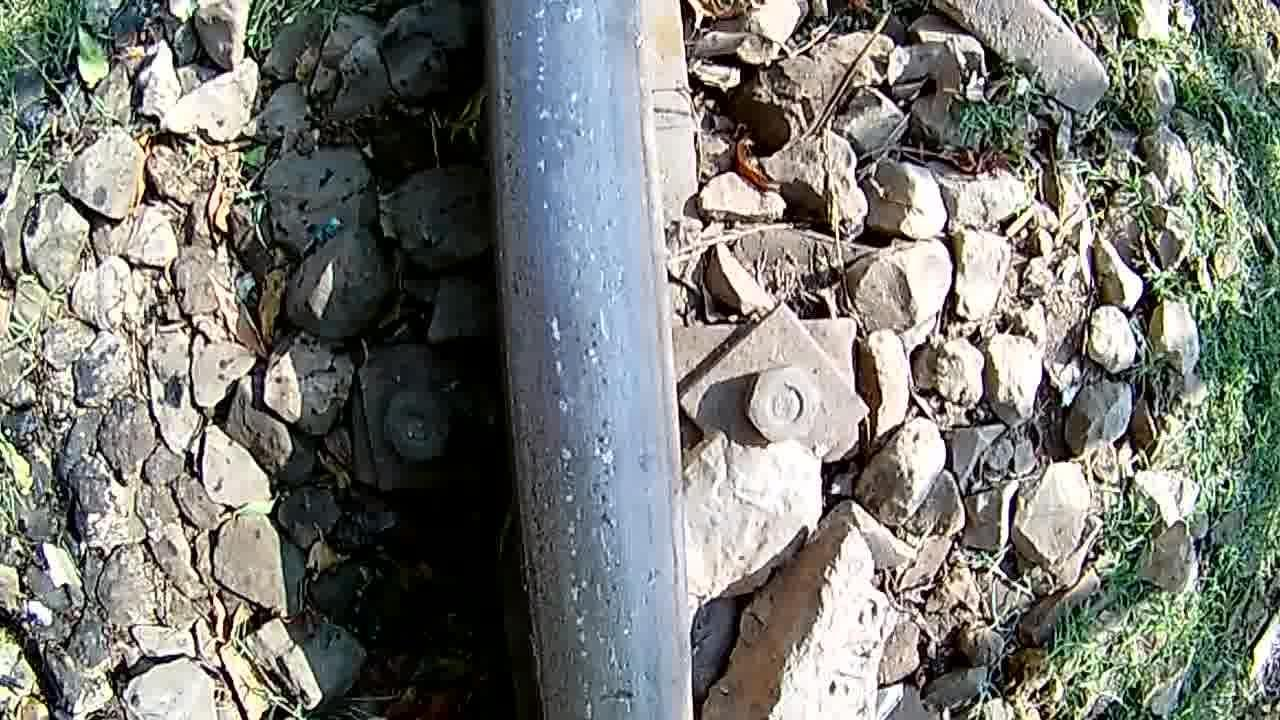crack: (475, 1, 698, 720)
